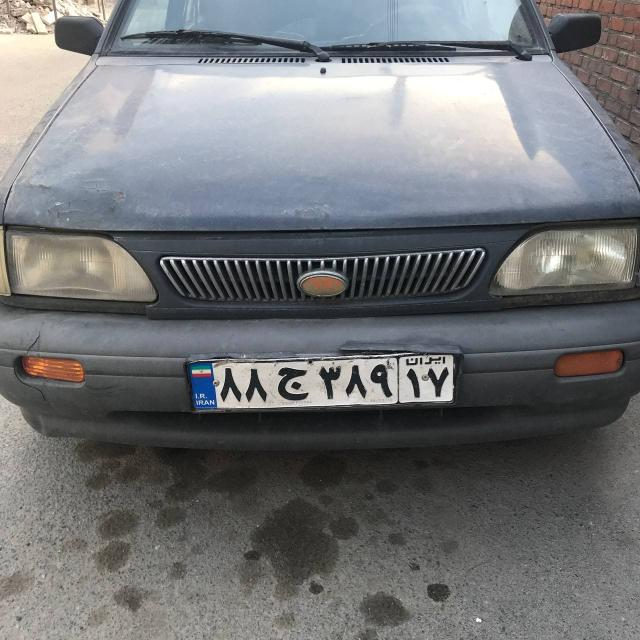Plates: (189, 355, 455, 409)
